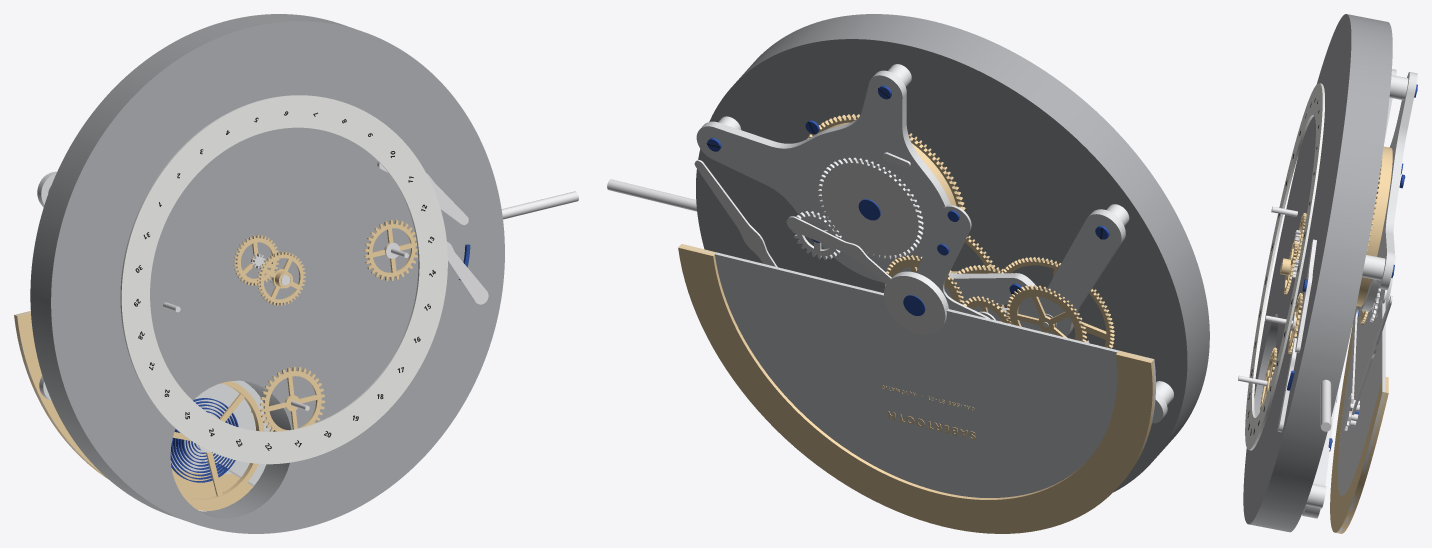
Rendered from sabertooth-movement.glb.
The picture shows the model from 3 angles, left to right: view 1: azimuth 30°, elevation 25°; view 2: azimuth 150°, elevation 25°; view 3: azimuth 270°, elevation 25°; orthographic projection. The views are drawn at different scales.
Visible parts, largest first — view 1: main_plate, date_disc, rotor_text, rotor_plate, counter12_wheel, balance_arms, hairspring, setting_lever, counter30_wheel, hour_wheel, minute_wheel, sliding_pinion (+2 smaller); view 2: main_plate, rotor_plate, rotor_text, barrel_bridge, ratchet_wheel, train_bridge, rotor_bearing, chrono_bridge, drive_wheel, op_lever, barrel_drum, hammer (+5 smaller); view 3: main_plate, date_disc, rotor_plate, rotor_text, barrel_bridge, barrel_drum, plate_pillar_0, setting_lever, balance_cock, sliding_pinion, op_lever, hour_wheel (+5 smaller).
Boxes of the visible parts, x1,y1,x2,y2 form: main_plate: (30, 14, 504, 533); date_disc: (120, 95, 447, 464); rotor_text: (14, 311, 253, 510); rotor_plate: (15, 312, 271, 474); counter12_wheel: (260, 366, 325, 431); balance_arms: (173, 381, 264, 505); hairspring: (170, 398, 238, 482); setting_lever: (377, 161, 488, 304); counter30_wheel: (364, 219, 417, 280); hour_wheel: (257, 251, 305, 305); minute_wheel: (233, 235, 279, 285); sliding_pinion: (501, 191, 578, 219); main_plate: (696, 14, 1209, 492); rotor_plate: (680, 245, 1155, 497); rotor_text: (678, 244, 1155, 533); barrel_bridge: (696, 70, 950, 282); ratchet_wheel: (817, 157, 923, 259); train_bridge: (944, 209, 1125, 336); rotor_bearing: (884, 271, 948, 334); chrono_bridge: (916, 205, 989, 318); drive_wheel: (1006, 285, 1086, 342); op_lever: (694, 160, 777, 267); barrel_drum: (807, 114, 965, 210); hammer: (786, 216, 891, 284); main_plate: (1243, 14, 1392, 532); date_disc: (1245, 83, 1324, 450); rotor_plate: (1337, 300, 1385, 533); rotor_text: (1330, 325, 1388, 533); barrel_bridge: (1359, 72, 1417, 311); barrel_drum: (1356, 146, 1392, 306); plate_pillar_0: (1305, 75, 1408, 508); setting_lever: (1277, 239, 1316, 432); balance_cock: (1302, 389, 1338, 518); sliding_pinion: (1320, 379, 1331, 431); op_lever: (1352, 295, 1392, 415); hour_wheel: (1280, 240, 1297, 294).
Size of the model in its own units: 3.82 by 3.2 by 1.11.
